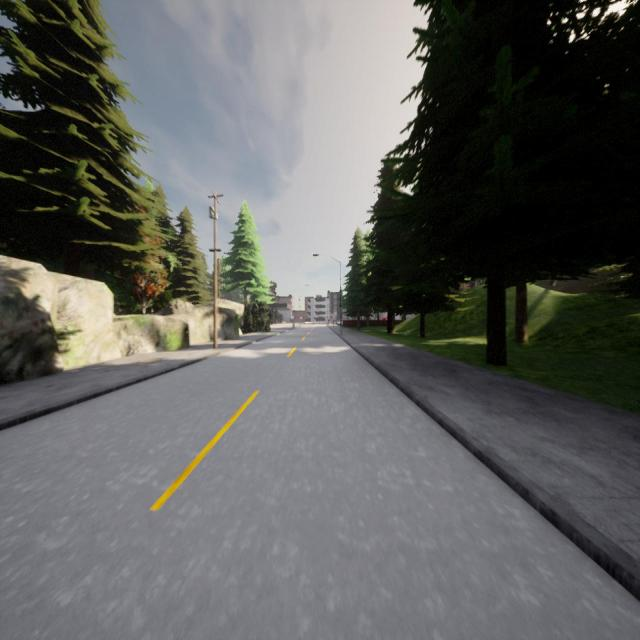Traffic_Signs: (290, 315, 295, 320)
